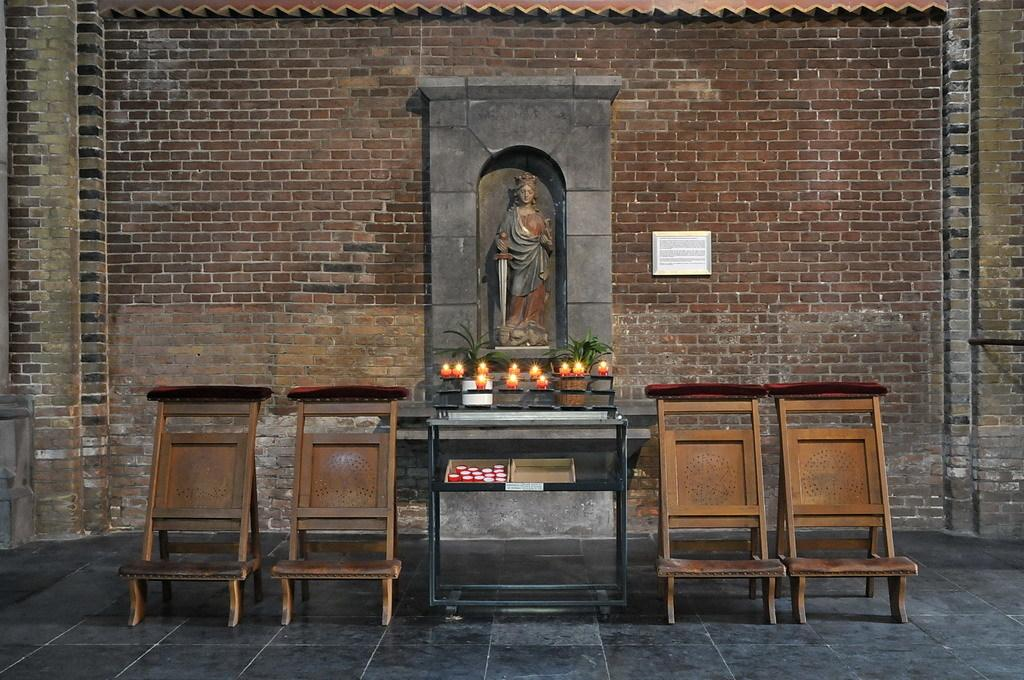Chair: (116, 391, 272, 640), (765, 382, 920, 625), (644, 382, 787, 627), (269, 386, 413, 627)
